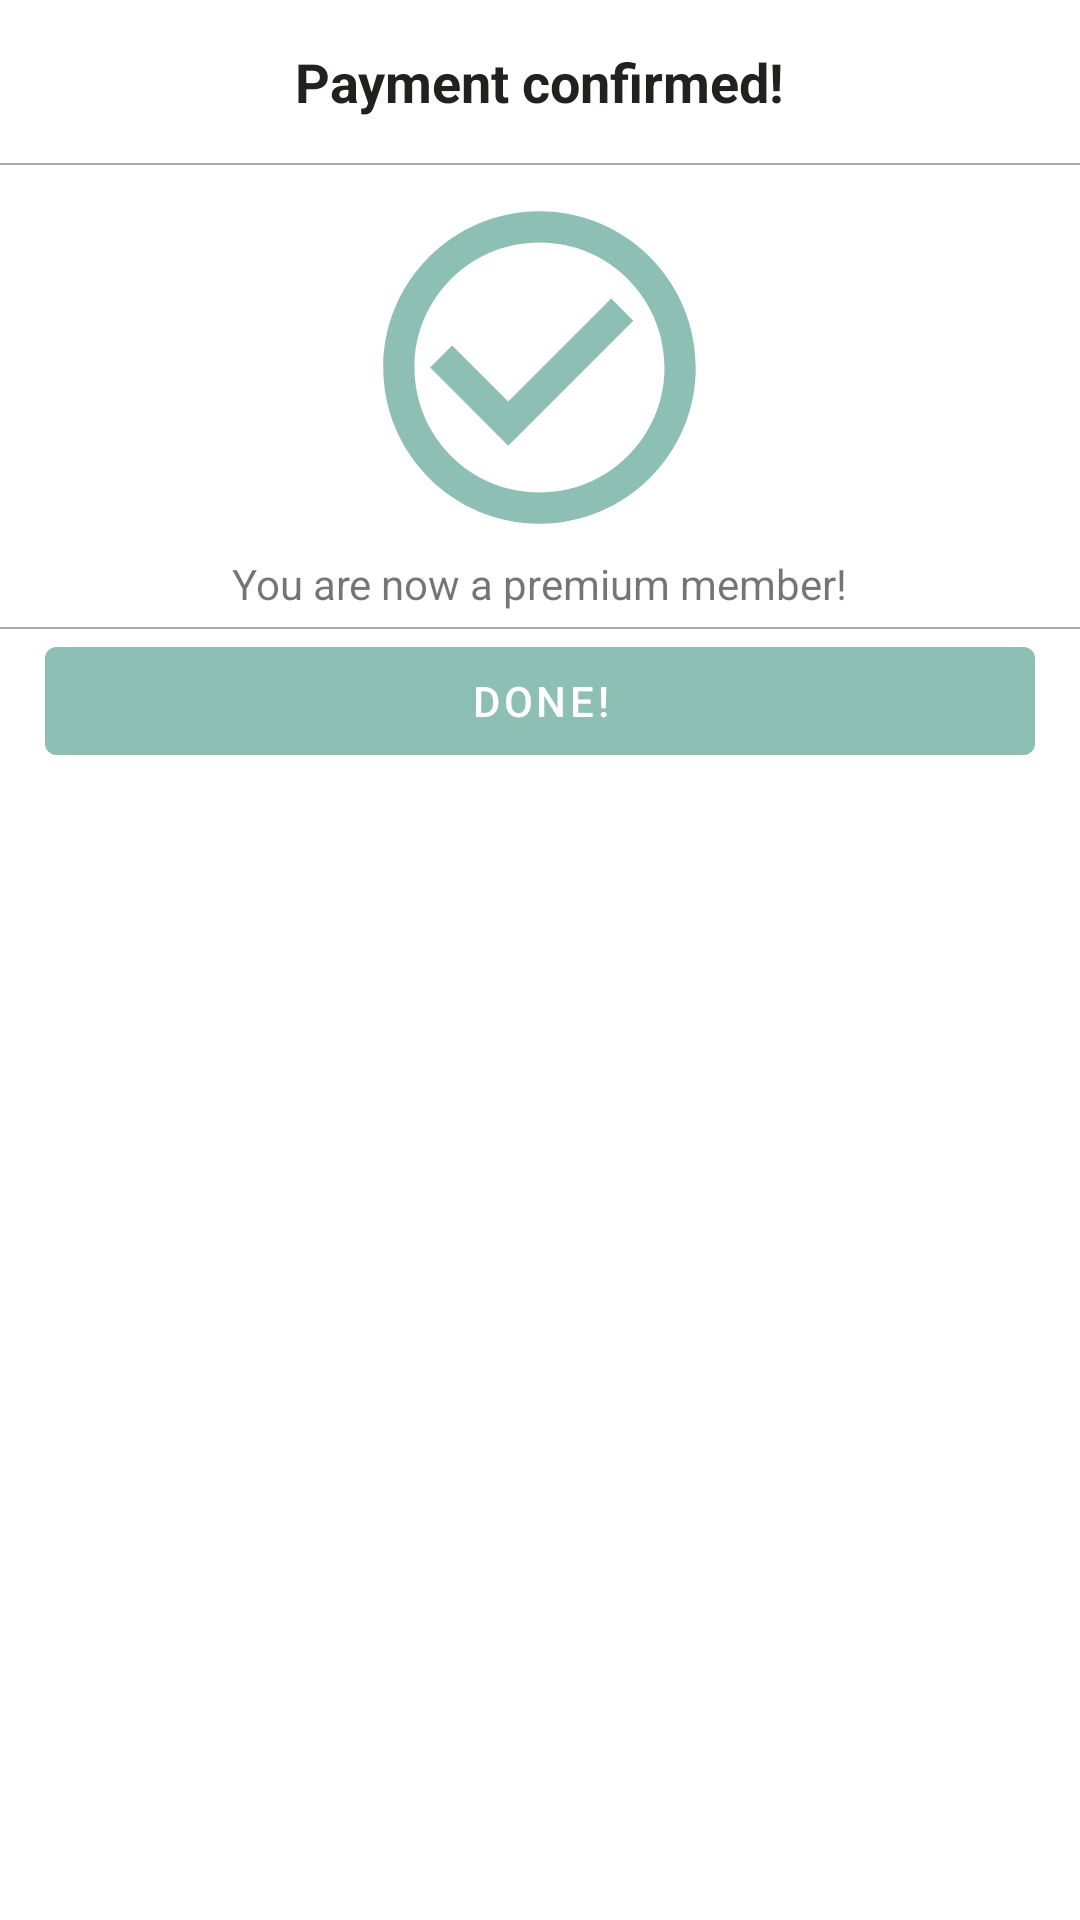

Screen size 1080px×1920px. Icon name, then its center in pixels as [x,y]:
check circle: [539,367]
